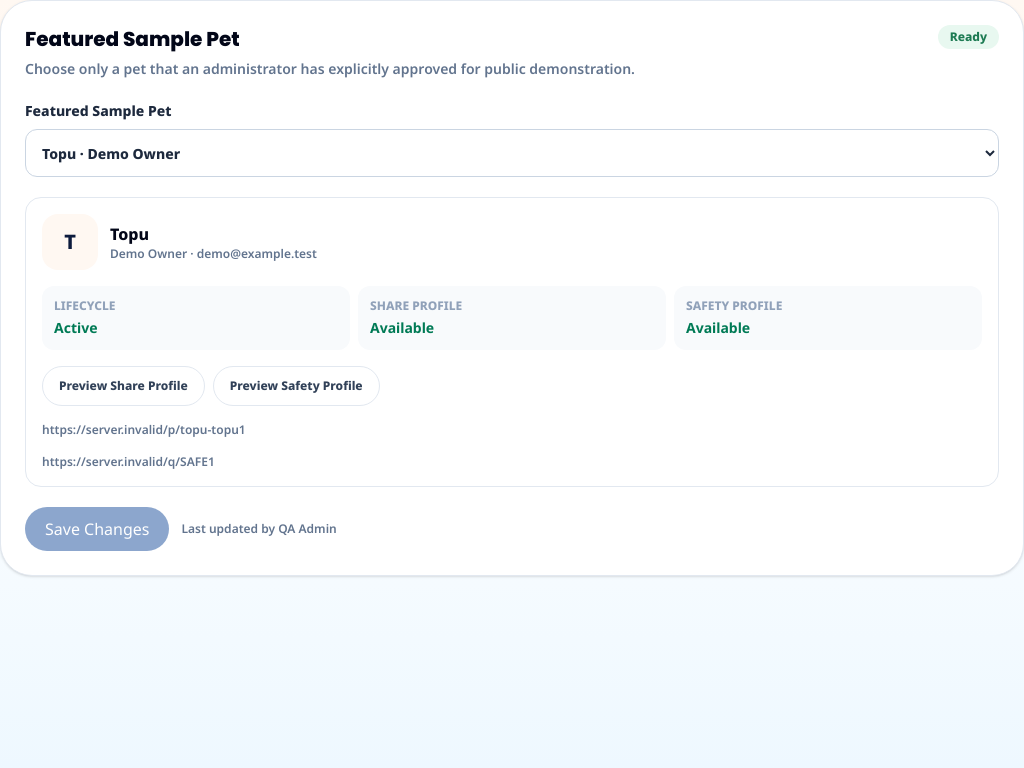
Test: changes the featured sample from Topu to another eligible pet
Select "Milo · Demo Owner" in the dropdown labelled "Featured Sample Pet": {"x": 512, "y": 153} x1=25 y1=129 x2=999 y2=177
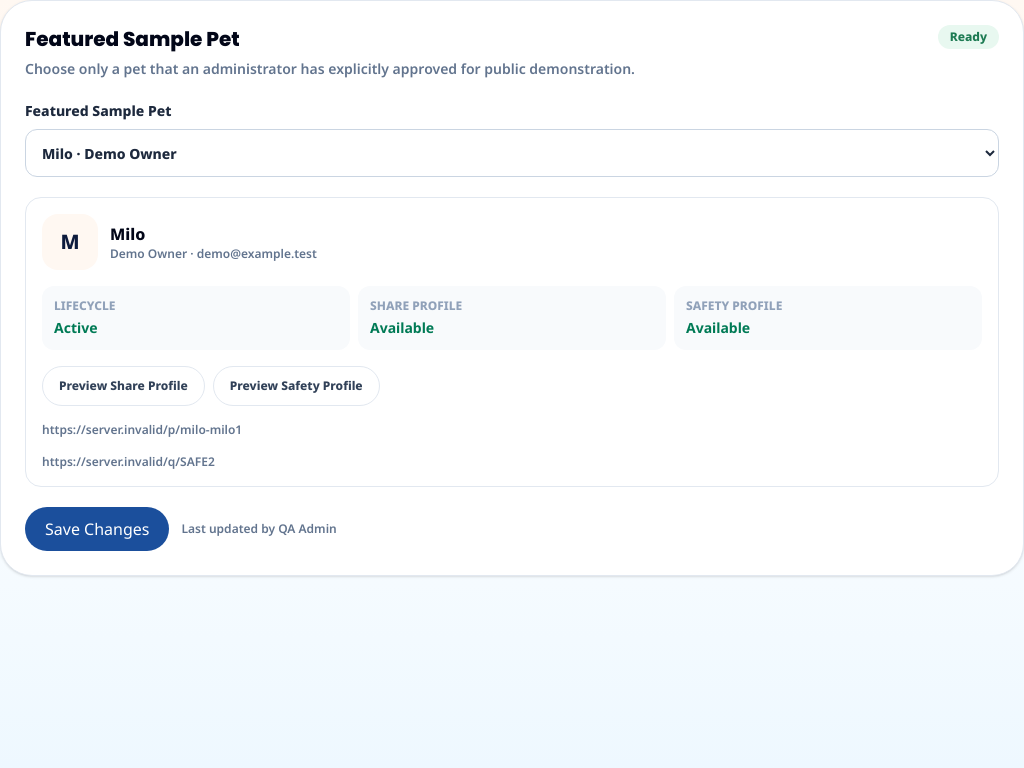
Click the button "Save Changes": {"x": 97, "y": 529} x1=25 y1=507 x2=170 y2=551
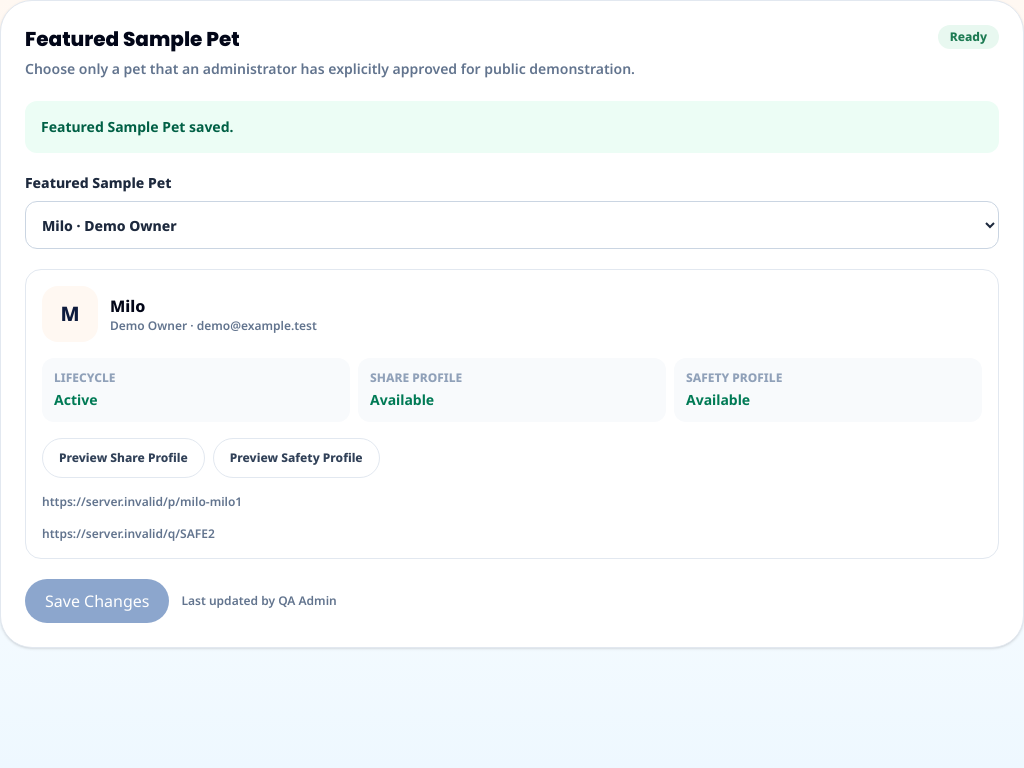
Expected: the text "Featured Sample Pet saved." is shown, x1=25 y1=101 x2=999 y2=153
